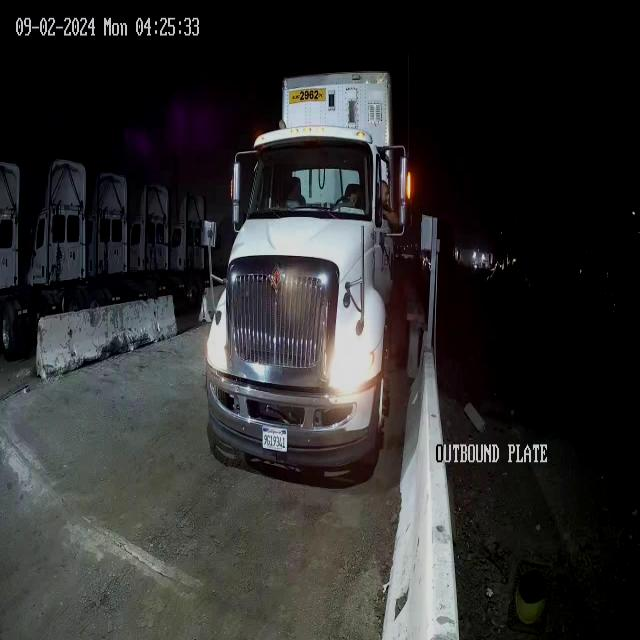TRUCK_CONTAINER: (202, 70, 410, 484)
